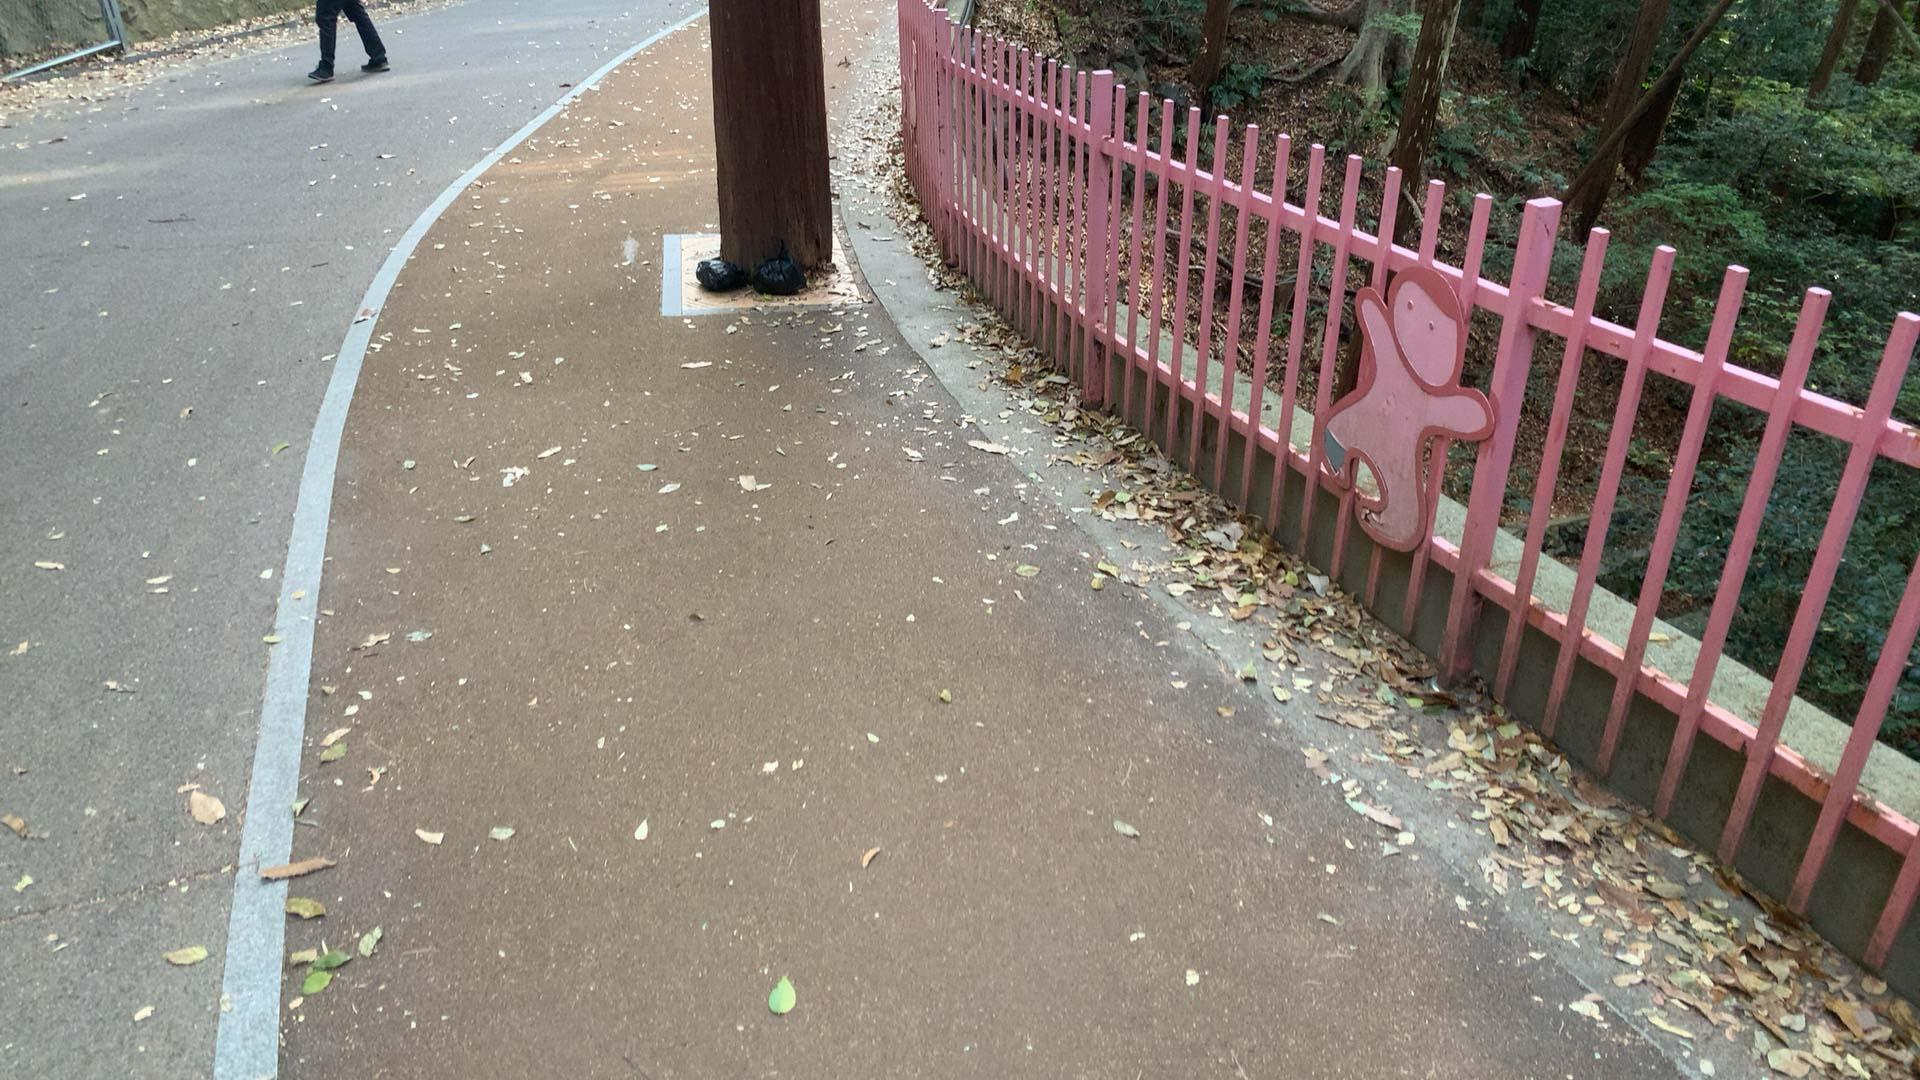black_bag: (691, 255, 746, 293), (754, 258, 804, 295)
